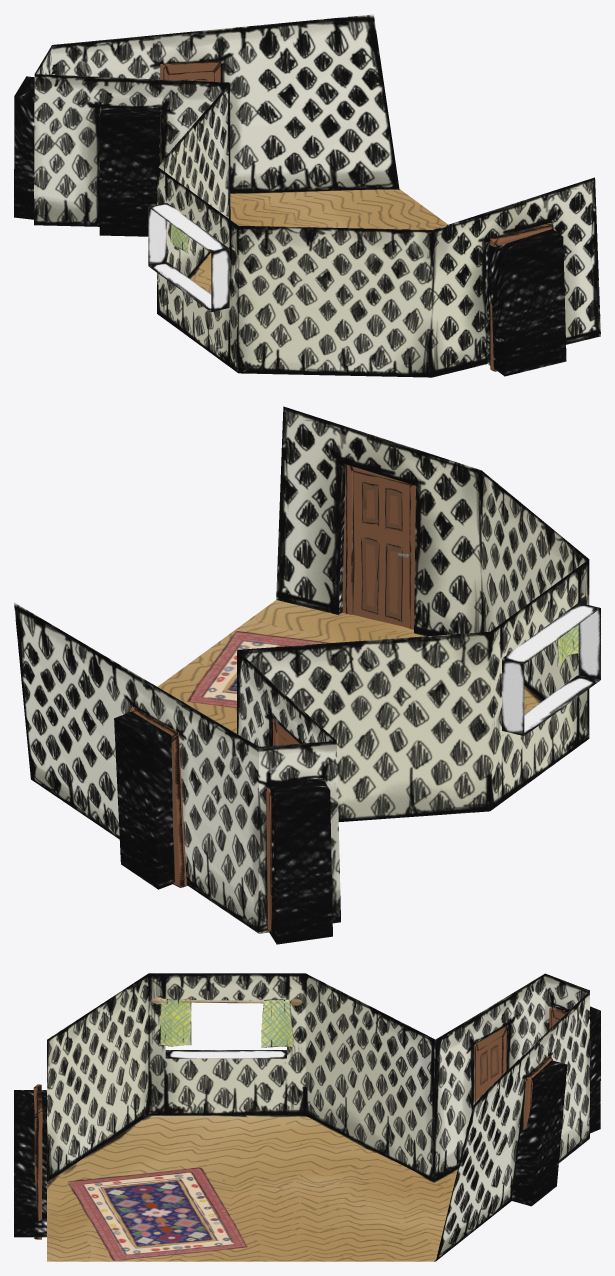
File: interior_shell_open.glb
3 renders of one model, top to bottom at view 1: azimuth 30°, elevation 25°; view 2: azimuth 150°, elevation 25°; view 3: azimuth 270°, elevation 25°, orthographic. The views are drawn at different scales.
Visible parts, largest first — view 1: Walls/Floor, frame.003, frame.001; view 2: Walls/Floor, Door.003, frame.003, frame.001, frame.002; view 3: Walls/Floor, Curtain, Door, frame.003, frame, frame.001.
Part boxes in pixels (<box>): Walls/Floor: <box>14,14,600,377</box>; frame.003: <box>489,223,553,371</box>; frame.001: <box>160,60,221,81</box>; Walls/Floor: <box>14,406,600,944</box>; Door.003: <box>352,470,409,627</box>; frame.003: <box>342,464,415,629</box>; frame.001: <box>129,707,187,887</box>; frame.002: <box>266,787,271,932</box>; Walls/Floor: <box>14,973,600,1261</box>; Curtain: <box>151,997,301,1047</box>; Door: <box>477,1036,501,1099</box>; frame.003: <box>33,1084,42,1239</box>; frame: <box>474,1025,506,1102</box>; frame.001: <box>522,1055,552,1130</box>.
Size of the model in its own units: 0.4983 by 0.2402 by 0.8.
Materials: 3 (3 with a texture image).
